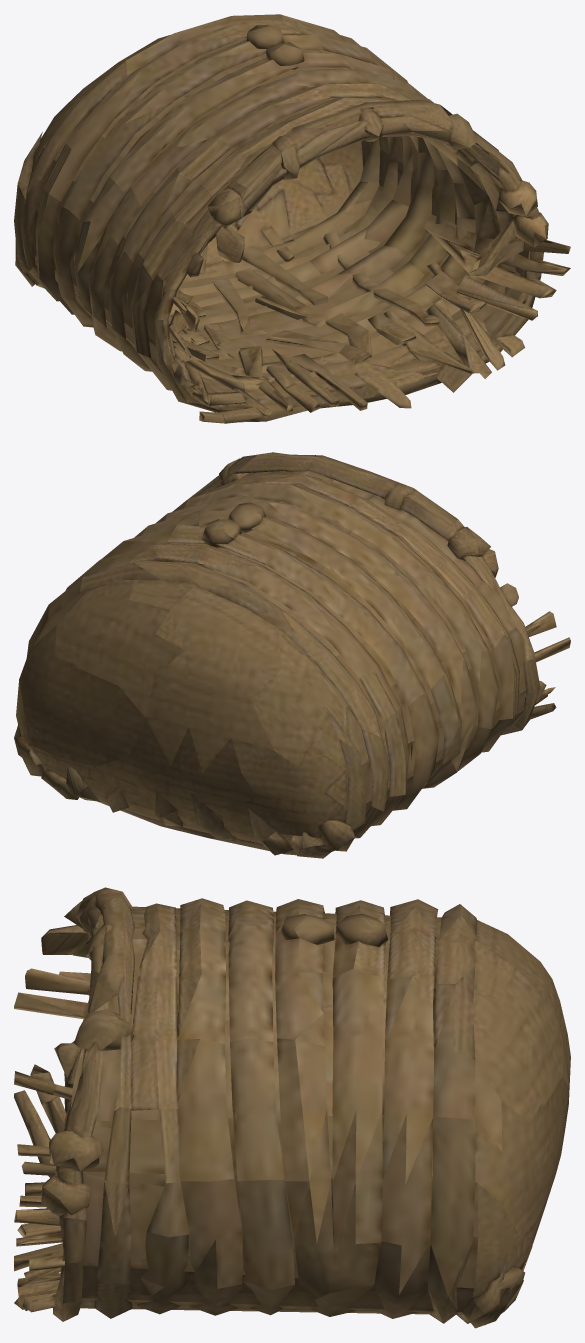
File: chaos-basket.glb
3 views of the same model, one above another, from view 1: azimuth 30°, elevation 25°; view 2: azimuth 150°, elevation 25°; view 3: azimuth 270°, elevation 25° (orthographic). The views are drawn at different scales.
Visible parts, largest first — view 1: mesh_node; view 2: mesh_node; view 3: mesh_node.
Boxes of the visible parts, x1,y1,x2,y2 form: mesh_node: [14, 14, 570, 423]; mesh_node: [14, 452, 570, 858]; mesh_node: [14, 887, 570, 1328].
Size of the model in its own units: 1 by 0.709 by 1.
1 material, 1 textured.
